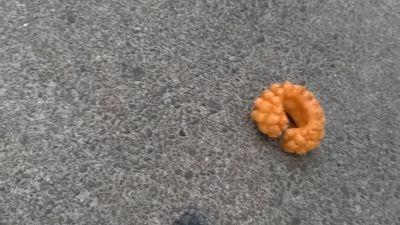eggs: (250, 81, 329, 154)
